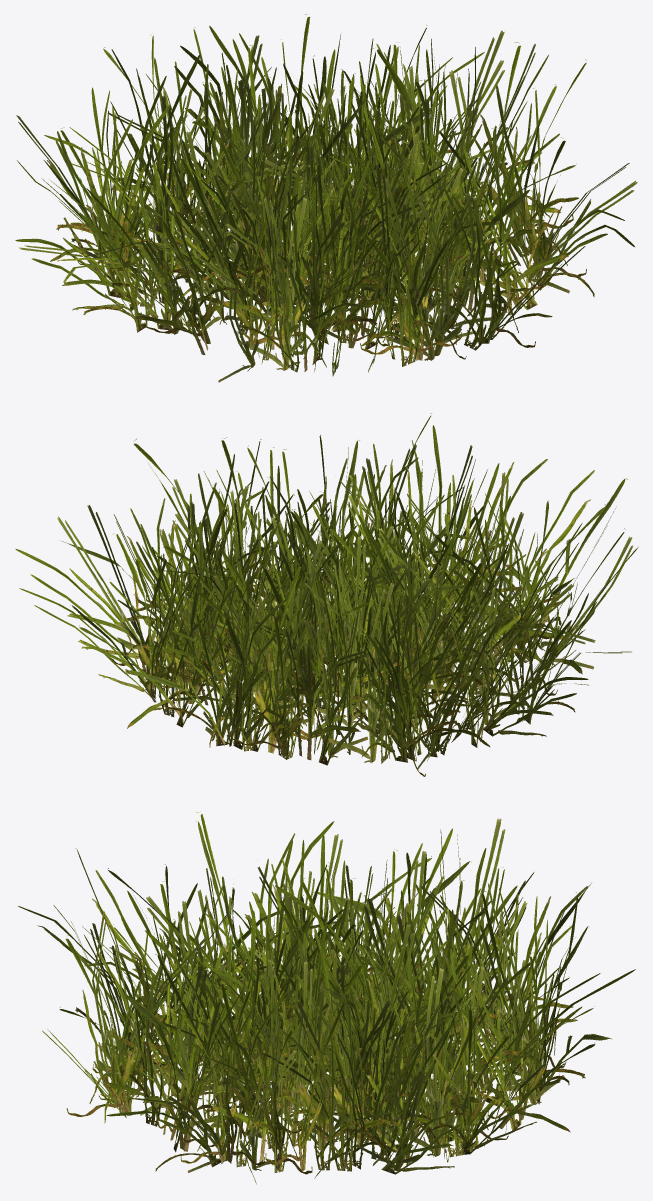
File: yard_grass.glb
3 renders of one model, top to bottom at view 1: azimuth 30°, elevation 25°; view 2: azimuth 150°, elevation 25°; view 3: azimuth 270°, elevation 25°, orthographic. The views are drawn at different scales.
Visible parts, largest first — view 1: gm; view 2: gm; view 3: gm.
Boxes of the visible parts, x1,y1,x2,y2 form: gm: (15,14,637,382); gm: (15,413,638,776); gm: (18,811,635,1184).
Bounding box in the file's own units: 32.34 × 10.35 × 29.38.
Materials: 1 (1 with a texture image).
